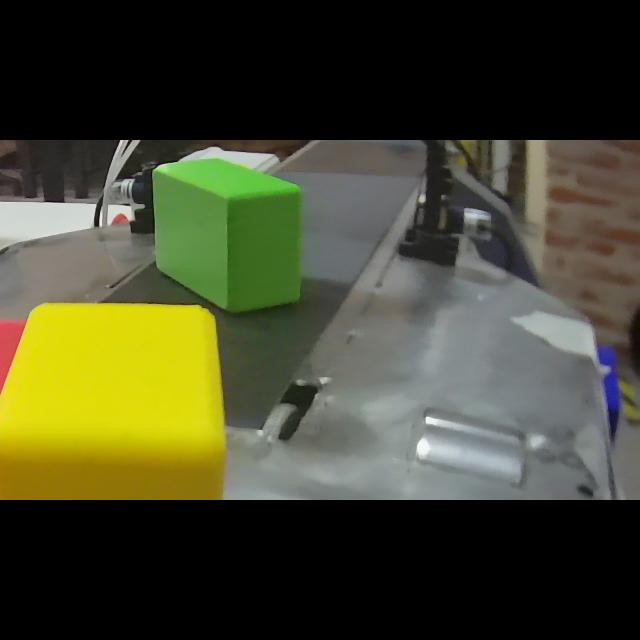greenBox: (144, 142, 318, 316)
redBox: (0, 314, 38, 500)
yellowBox: (0, 296, 234, 500)
